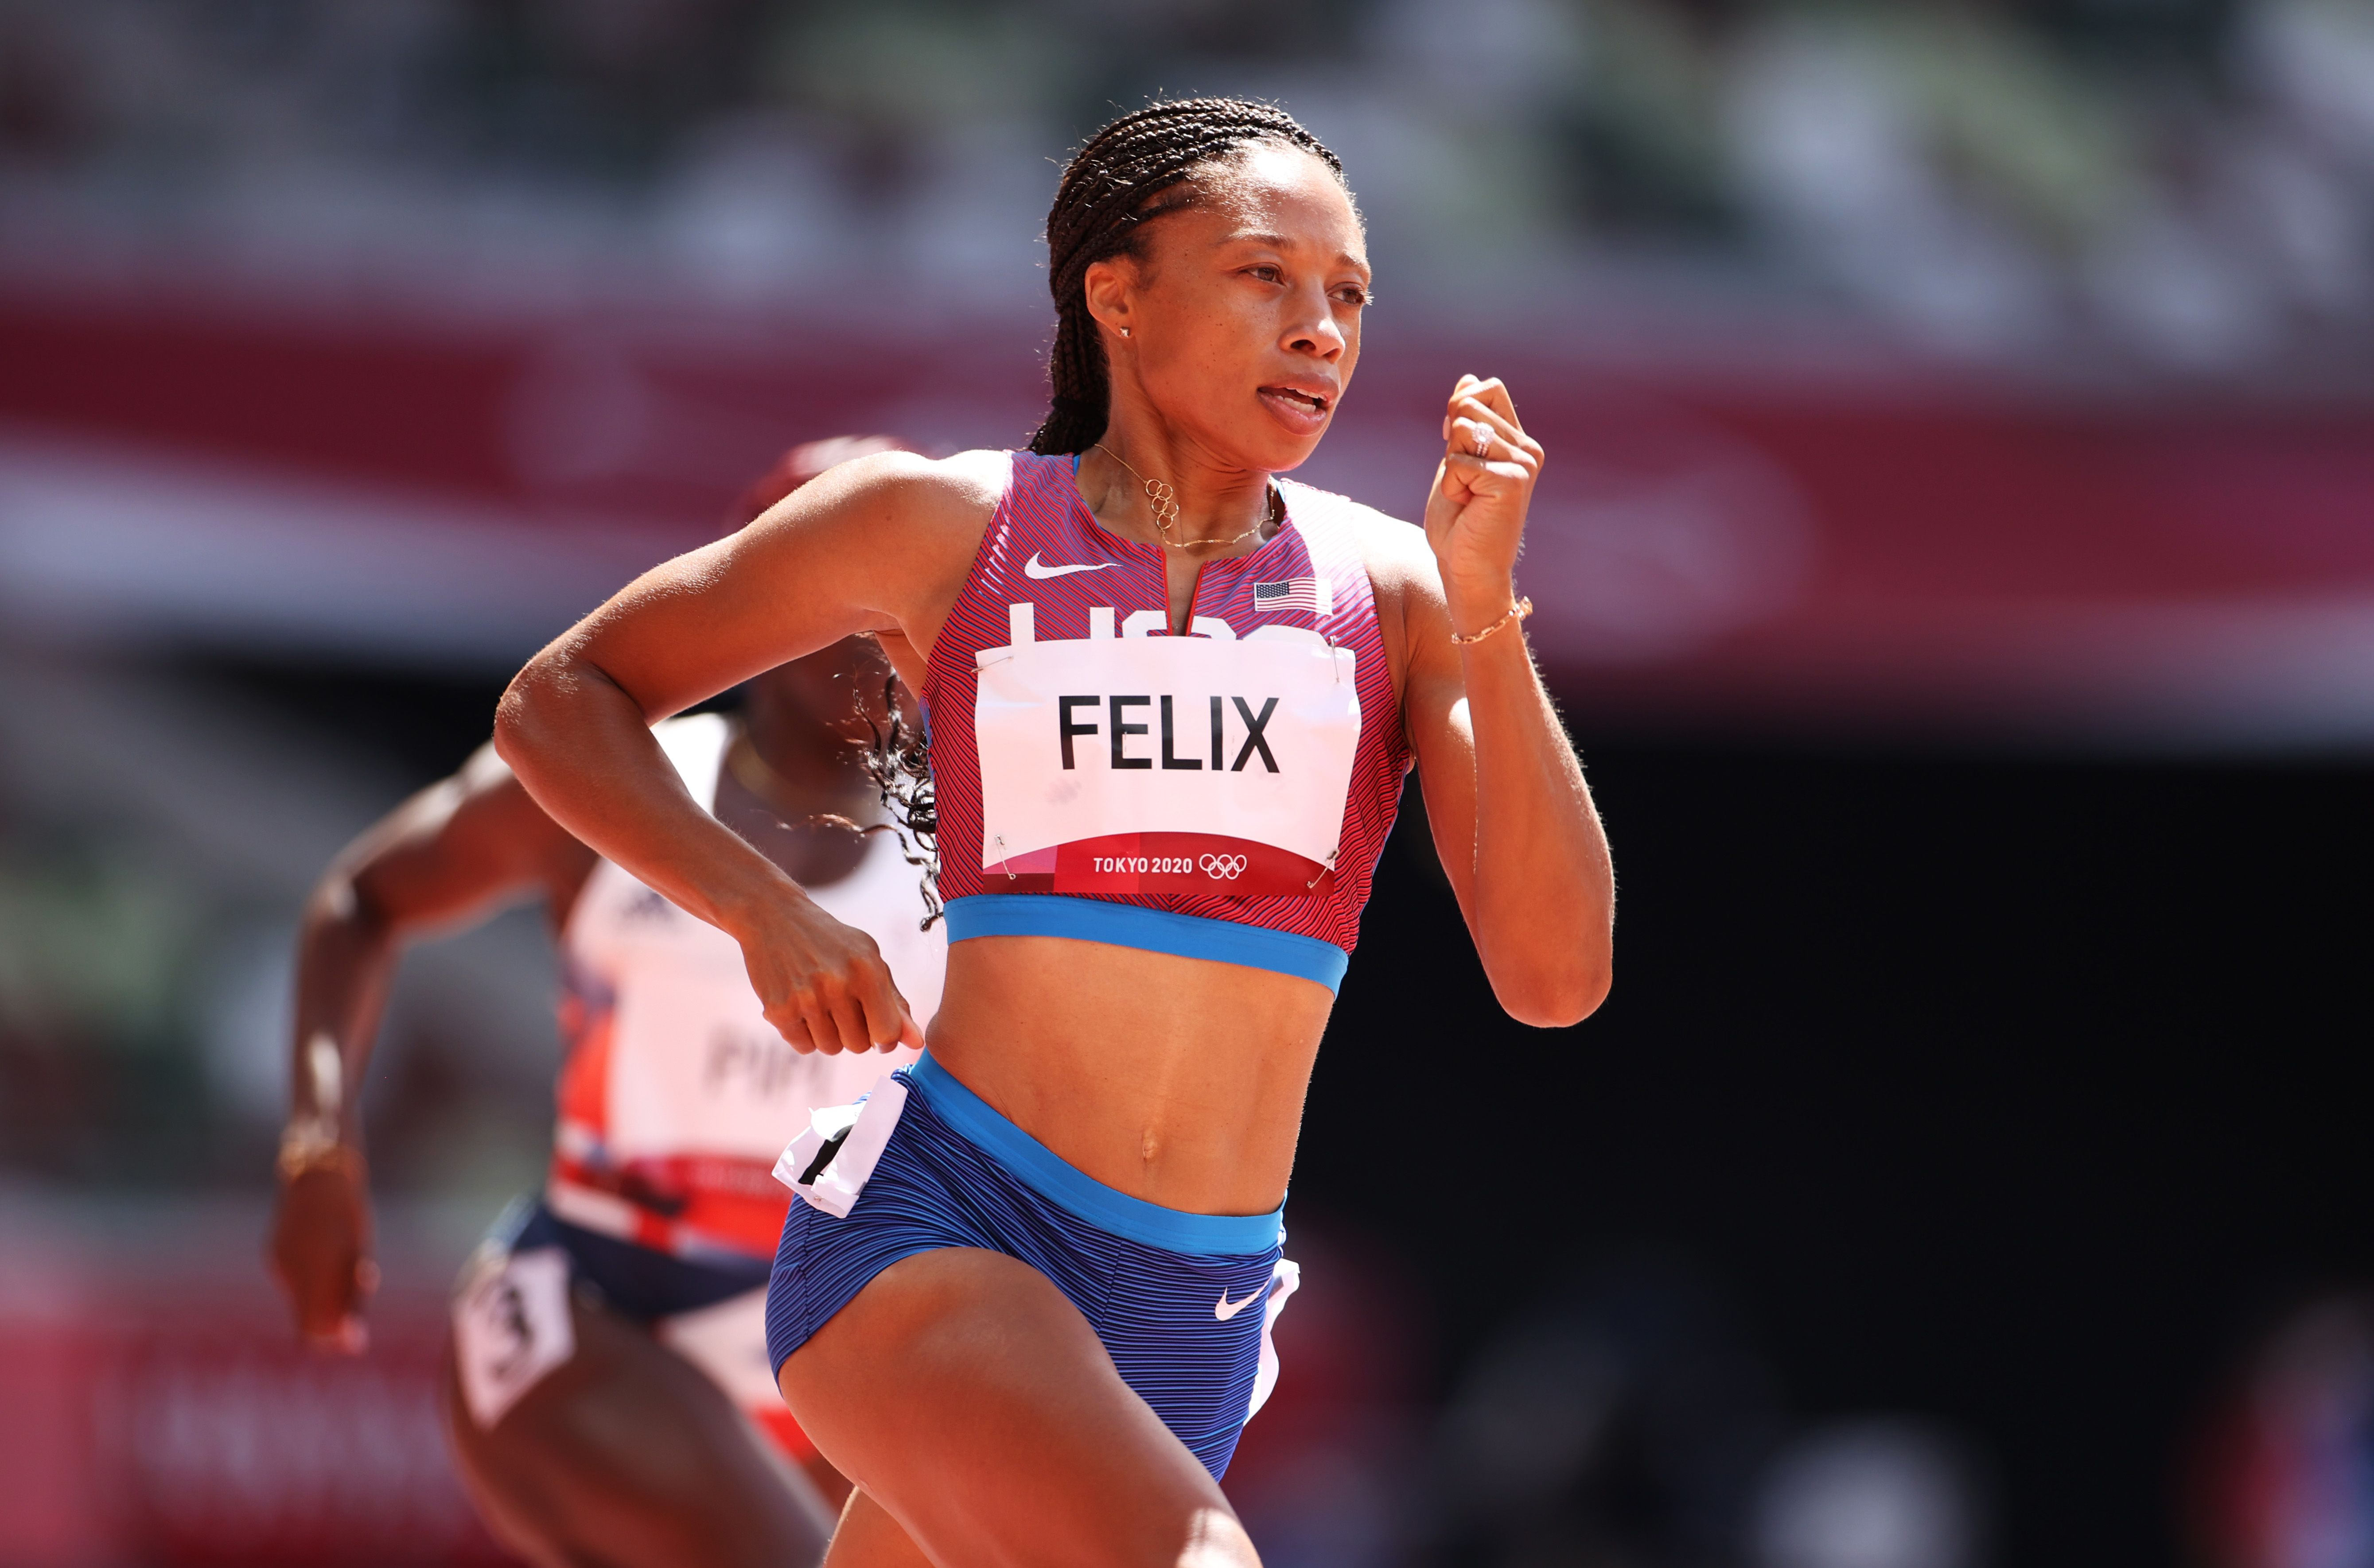runner: (487, 93, 1639, 1568)
